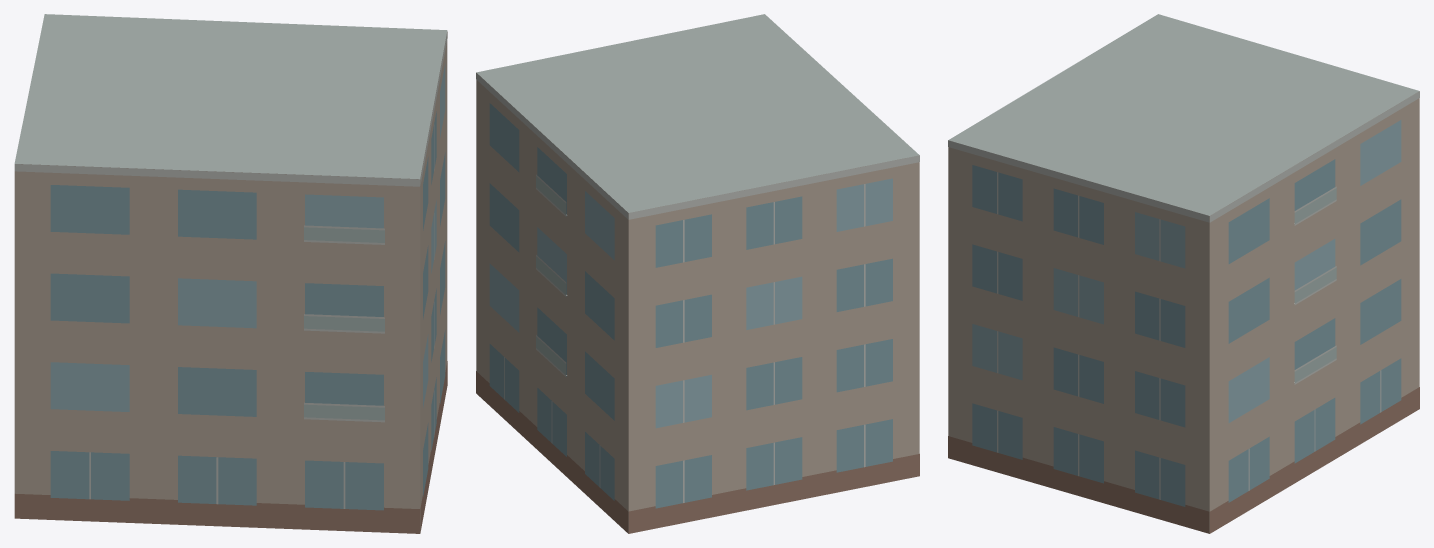
The model's file is survey-upis-32725721.glb.
3 views of the same model, side by side, from view 1: azimuth 30°, elevation 25°; view 2: azimuth 150°, elevation 25°; view 3: azimuth 270°, elevation 25° (orthographic). The views are drawn at different scales.
Parts seen in each view (by area): view 1: survey-upis-32725721.tmp; view 2: survey-upis-32725721.tmp; view 3: survey-upis-32725721.tmp.
Boxes of the visible parts, x1,y1,x2,y2 form: survey-upis-32725721.tmp: (14,14,447,533); survey-upis-32725721.tmp: (476,14,919,533); survey-upis-32725721.tmp: (948,14,1419,533).
Size of the model in its own units: 15.54 by 11.4 by 15.34.
